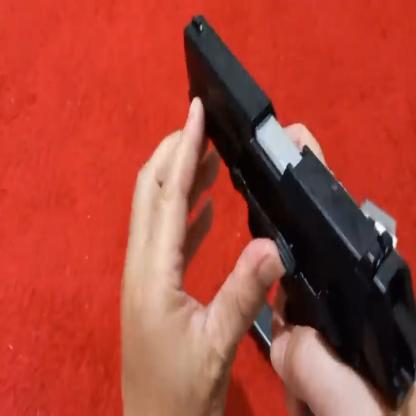handgun: (177, 5, 415, 416)
